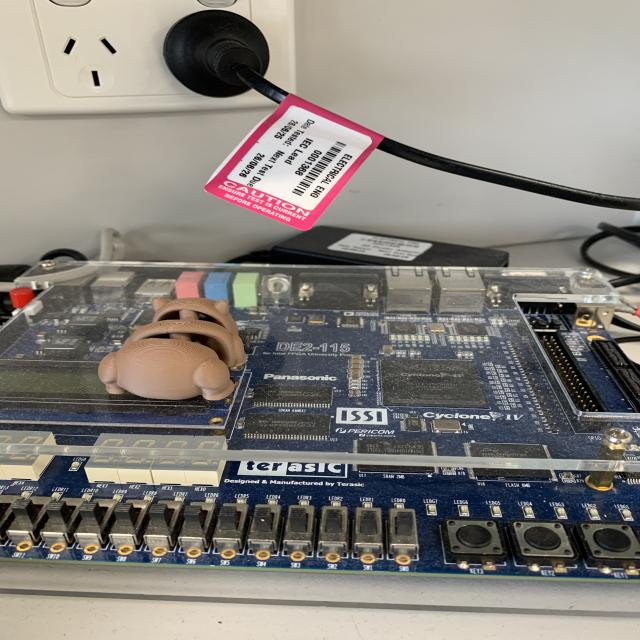wombat: (87, 289, 259, 405)
